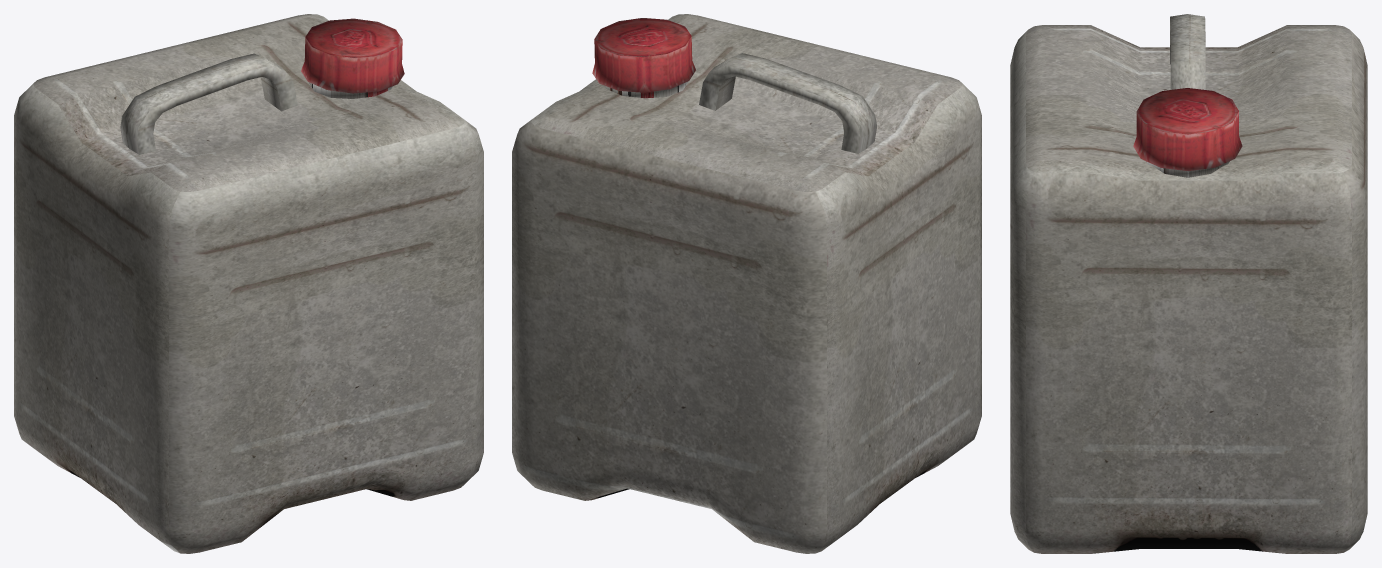
File: Container_White.FBX
The picture shows the model from 3 angles, left to right: view 1: azimuth 30°, elevation 25°; view 2: azimuth 150°, elevation 25°; view 3: azimuth 270°, elevation 25°; orthographic projection. The views are drawn at different scales.
Visible parts, largest first — view 1: Container_White; view 2: Container_White; view 3: Container_White.
Part boxes in pixels (left/top/right/bottom): Container_White: left=14, top=14, right=483, bottom=553; Container_White: left=512, top=14, right=981, bottom=553; Container_White: left=1010, top=14, right=1367, bottom=553.
Bounding box in the file's own units: 0.2871 × 0.3459 × 0.2607.
